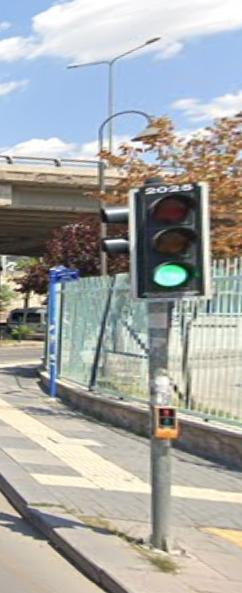greenlight: (139, 181, 209, 302)
